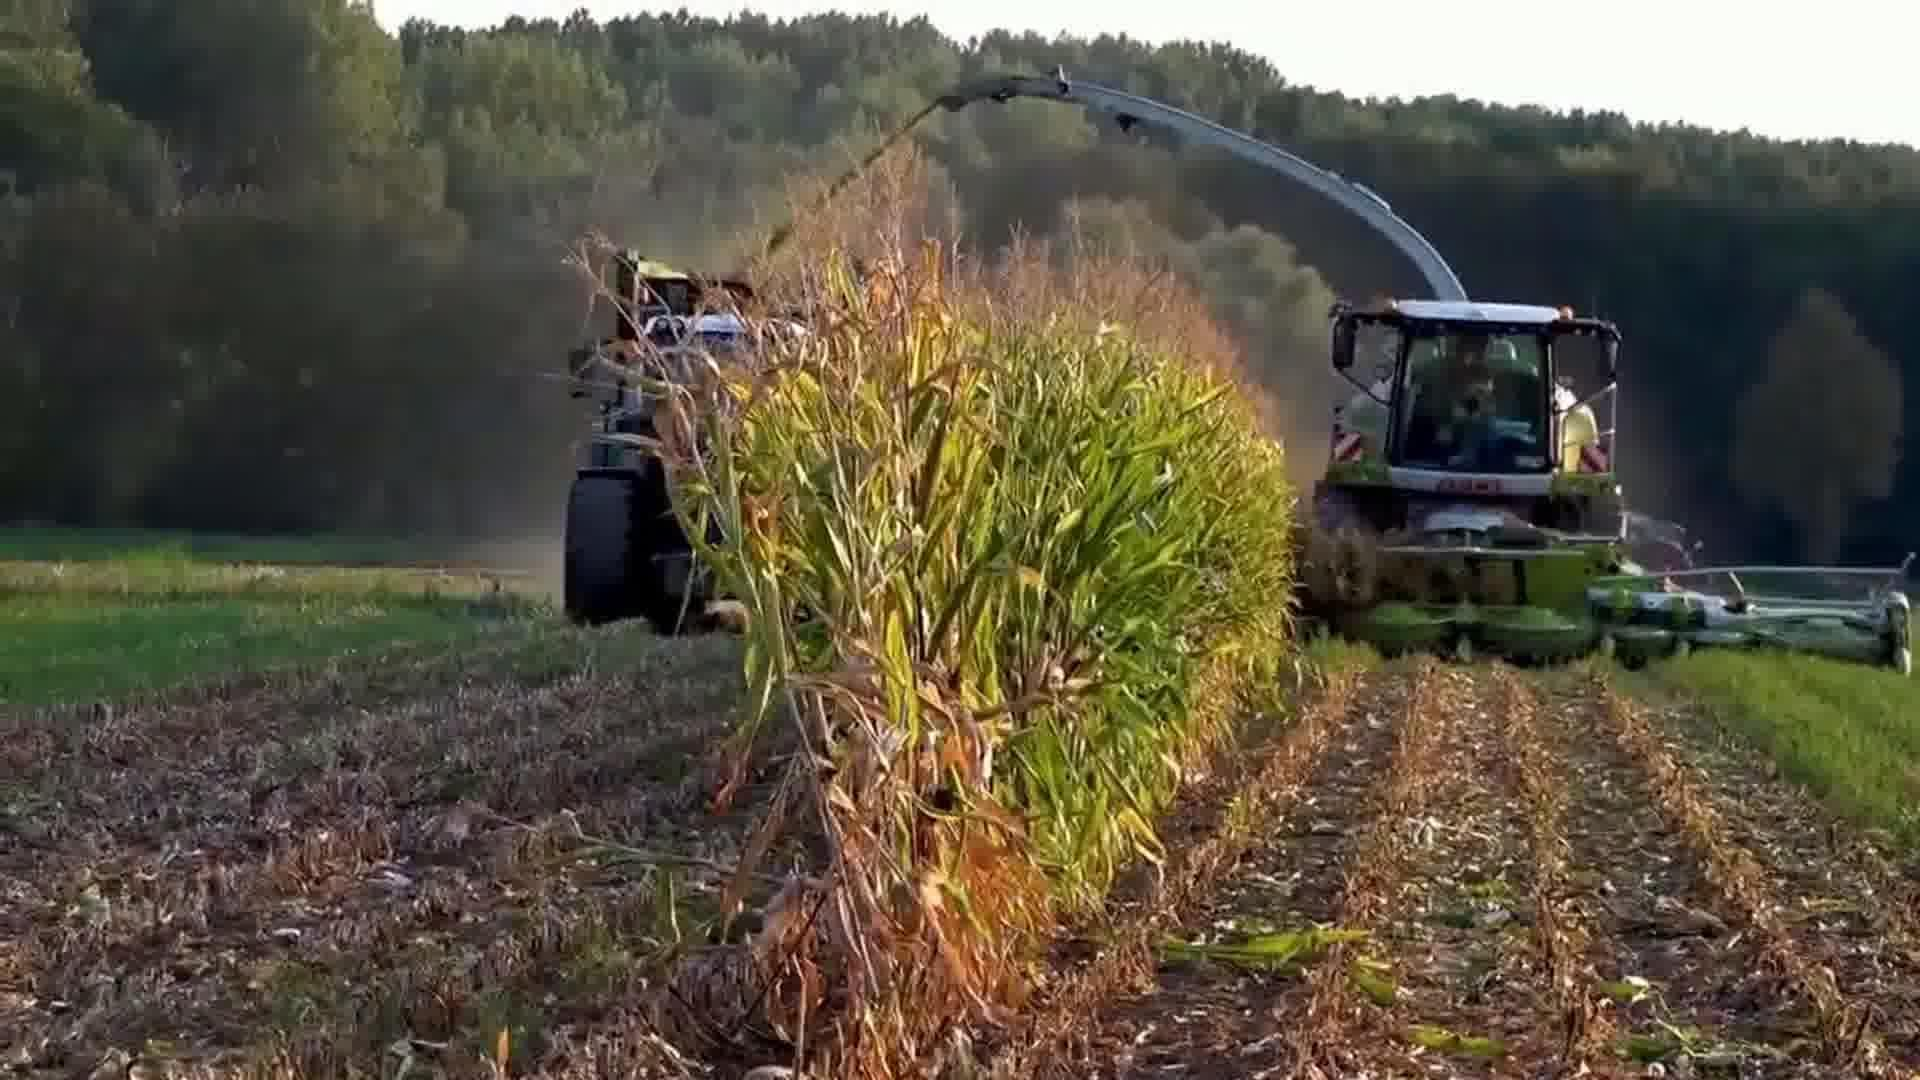combine harvester: (951, 62, 1920, 684)
tractor: (571, 276, 885, 645)
